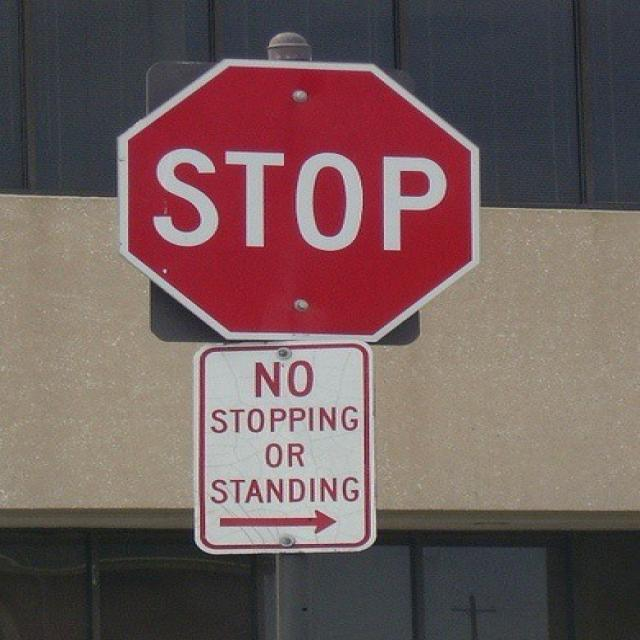stop: (115, 56, 481, 343)
